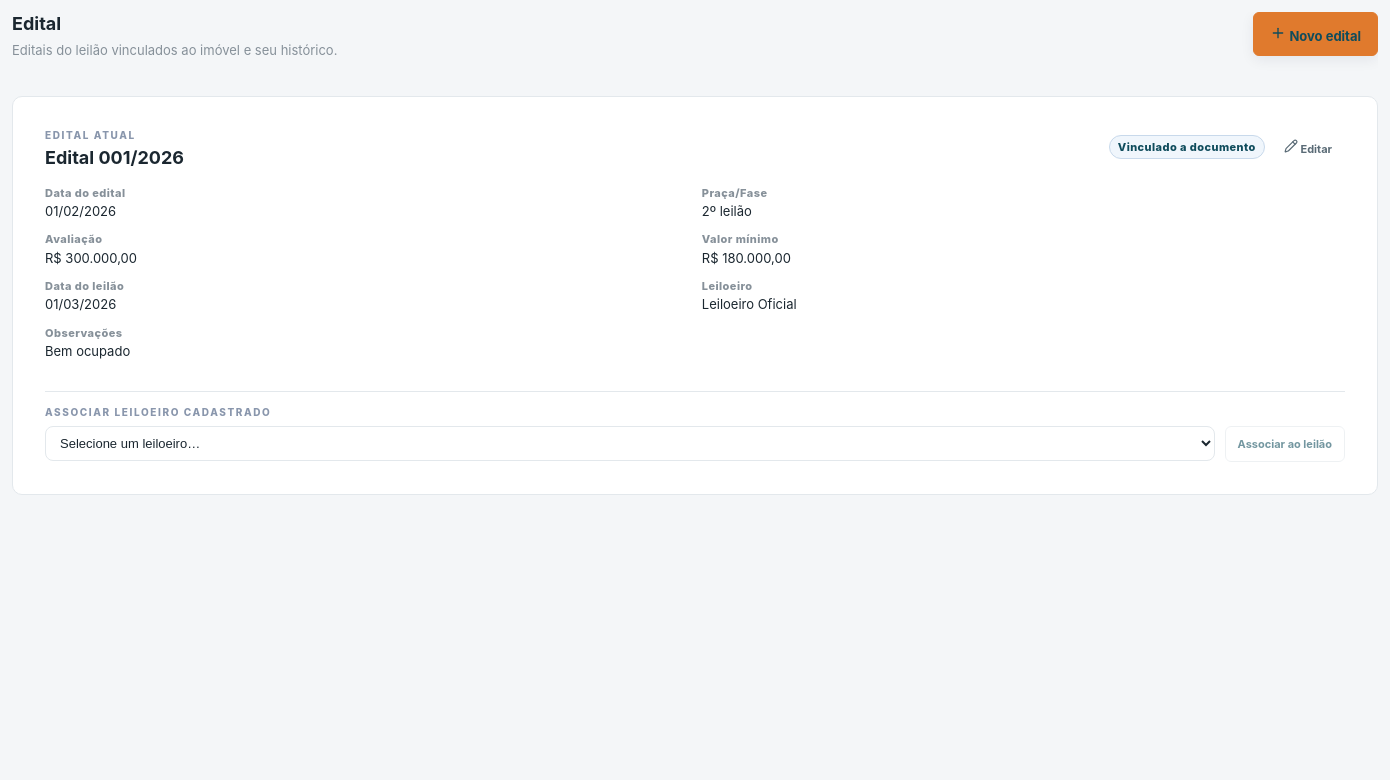
Test: AuctionNoticeSection › associa um leiloeiro cadastrado ao leilão (GAP 3)
Expected: the text "EDITAL ATUAL" is shown, [45,130,136,142]
Select "Leiloeiro X · LX" in the dropdown named "Leiloeiro cadastrado": (630, 444) [45,426,1214,461]
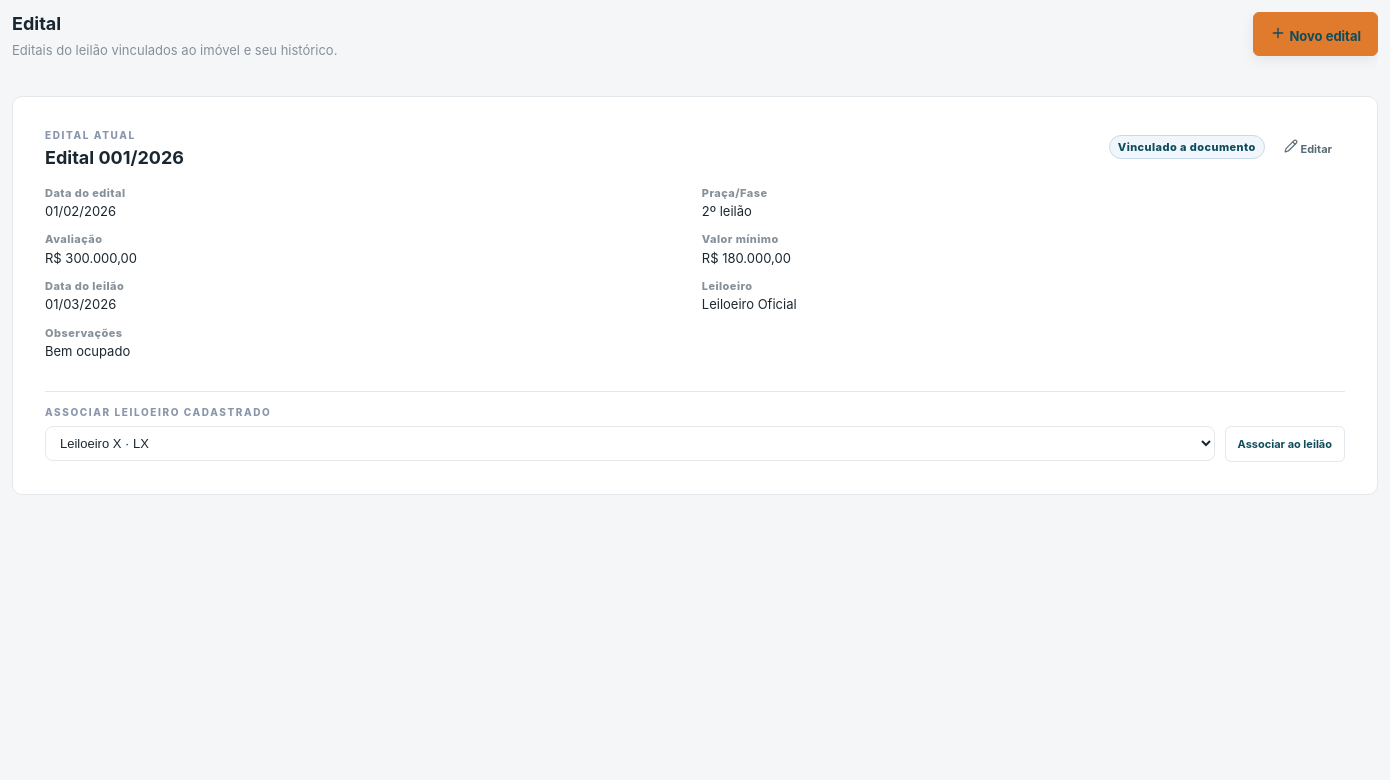
Click the button "Associar ao leilão": (1285, 444) [1224,426,1345,462]
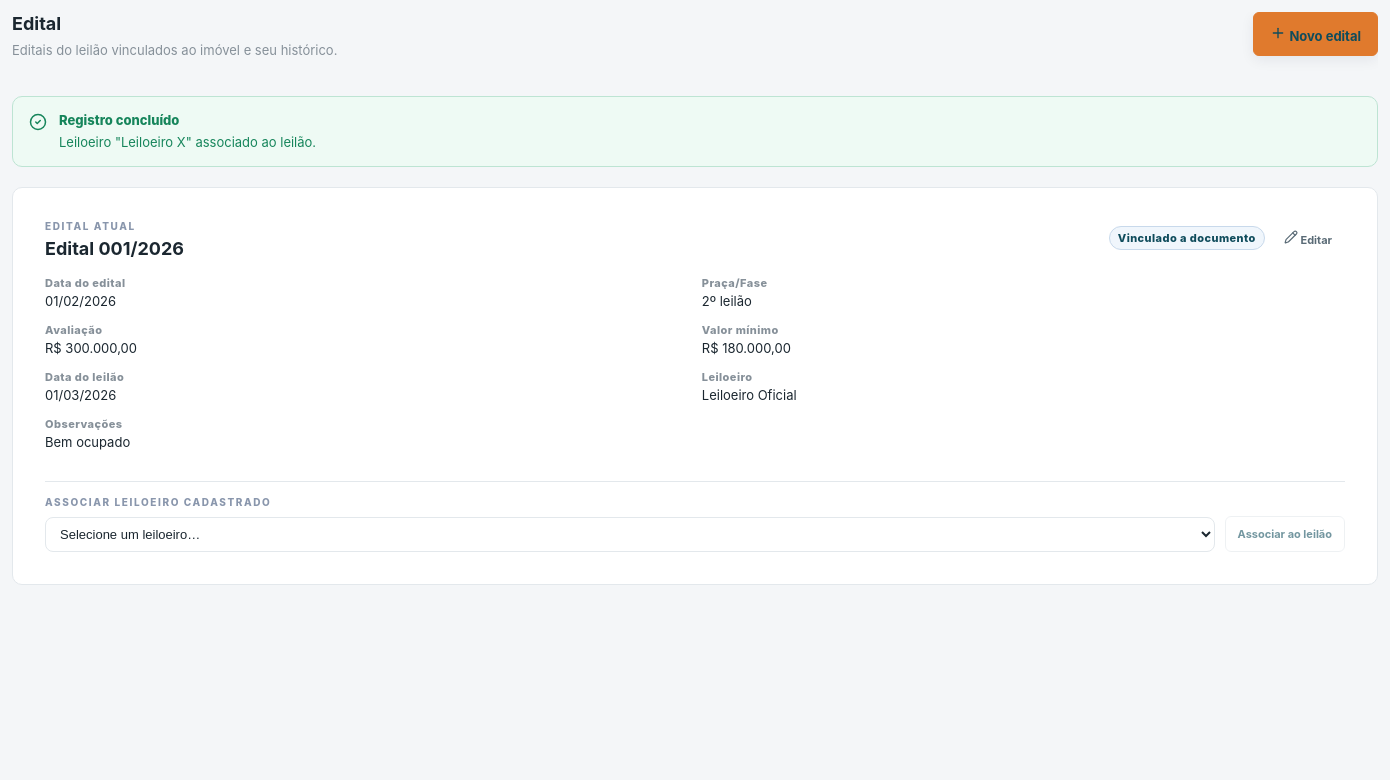
Now the text "Leiloeiro \"Leiloeiro X\" associado ao leilão." is shown, box [59,134,316,150]
